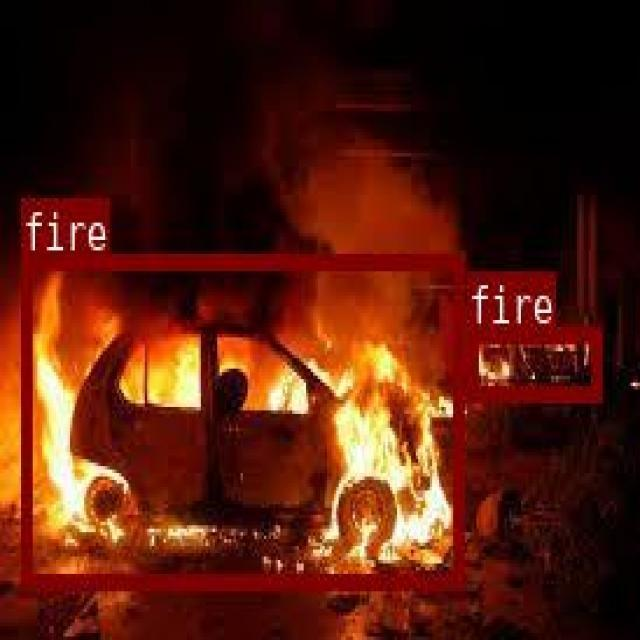fire: (19, 253, 461, 585), (467, 325, 600, 400)
